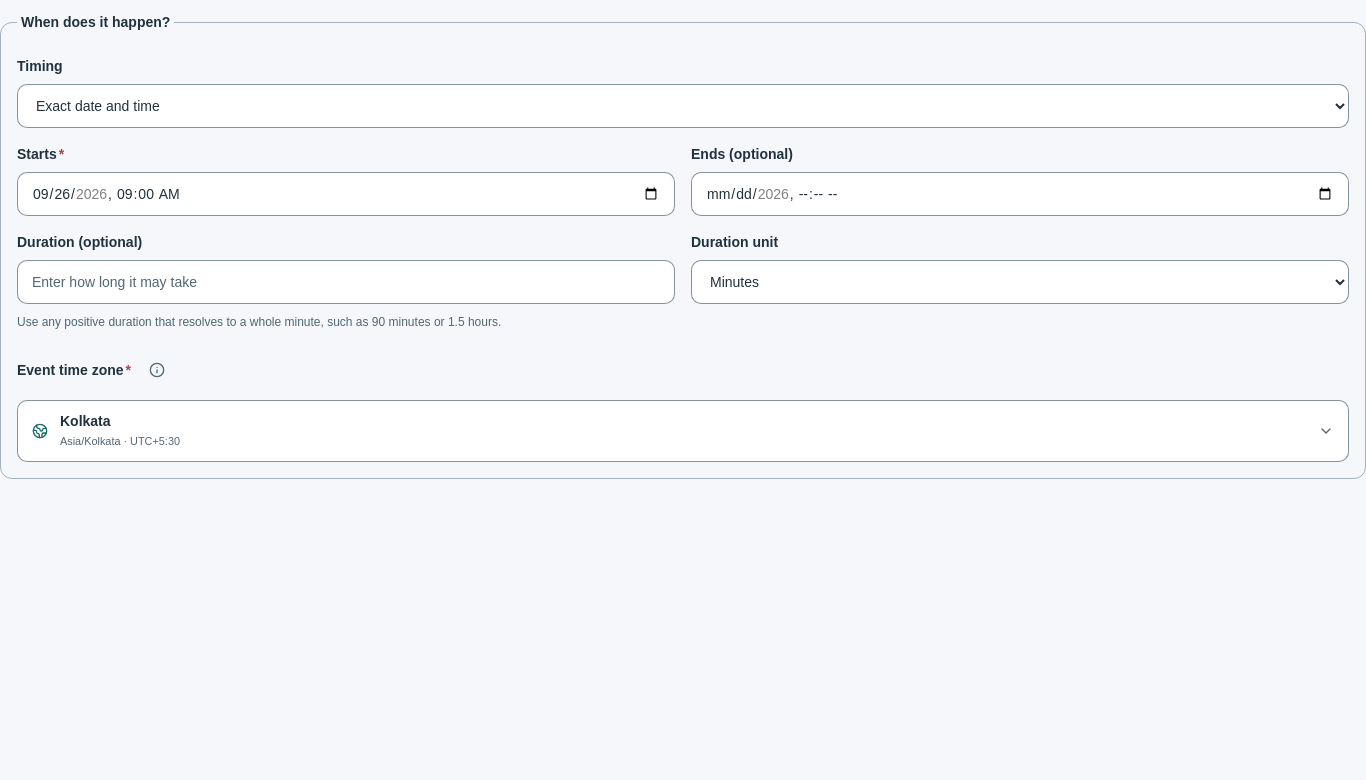
Test: relative event timing › shows an optional full schedule below Position and Event and enables end after start
Select "Before or after another event" in the dropdown labelled "Timing": (683, 106) x1=17 y1=84 x2=1349 y2=128
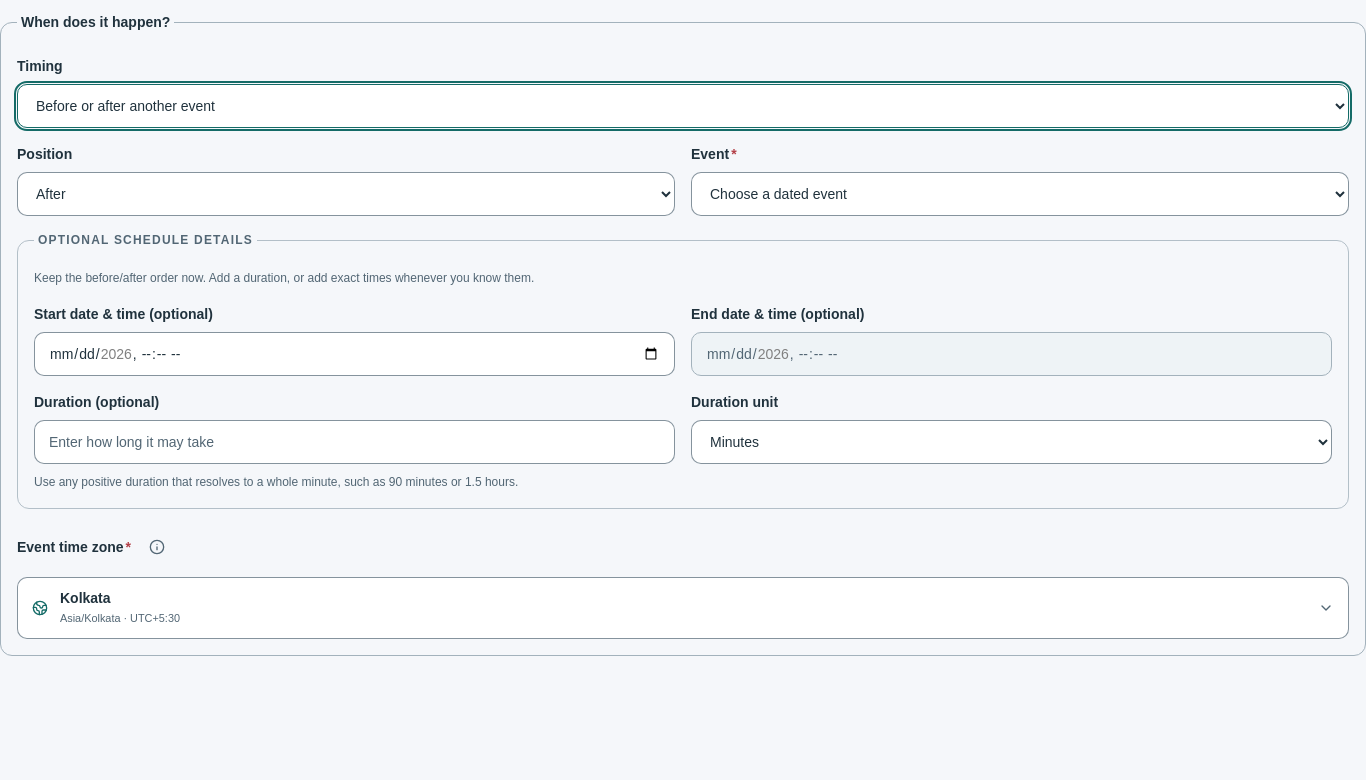
expect the dropdown labelled "Position" is shown: met, box x1=17 y1=172 x2=675 y2=216
expect the dropdown labelled "Event" is shown: met, box x1=691 y1=172 x2=1349 y2=216
expect the text "Optional schedule details" is shown: met, box x1=34 y1=232 x2=257 y2=248
In the field labelled "Start date & time (optional)": (354, 354) x1=34 y1=332 x2=675 y2=376, type "2026-09-27T10:00"
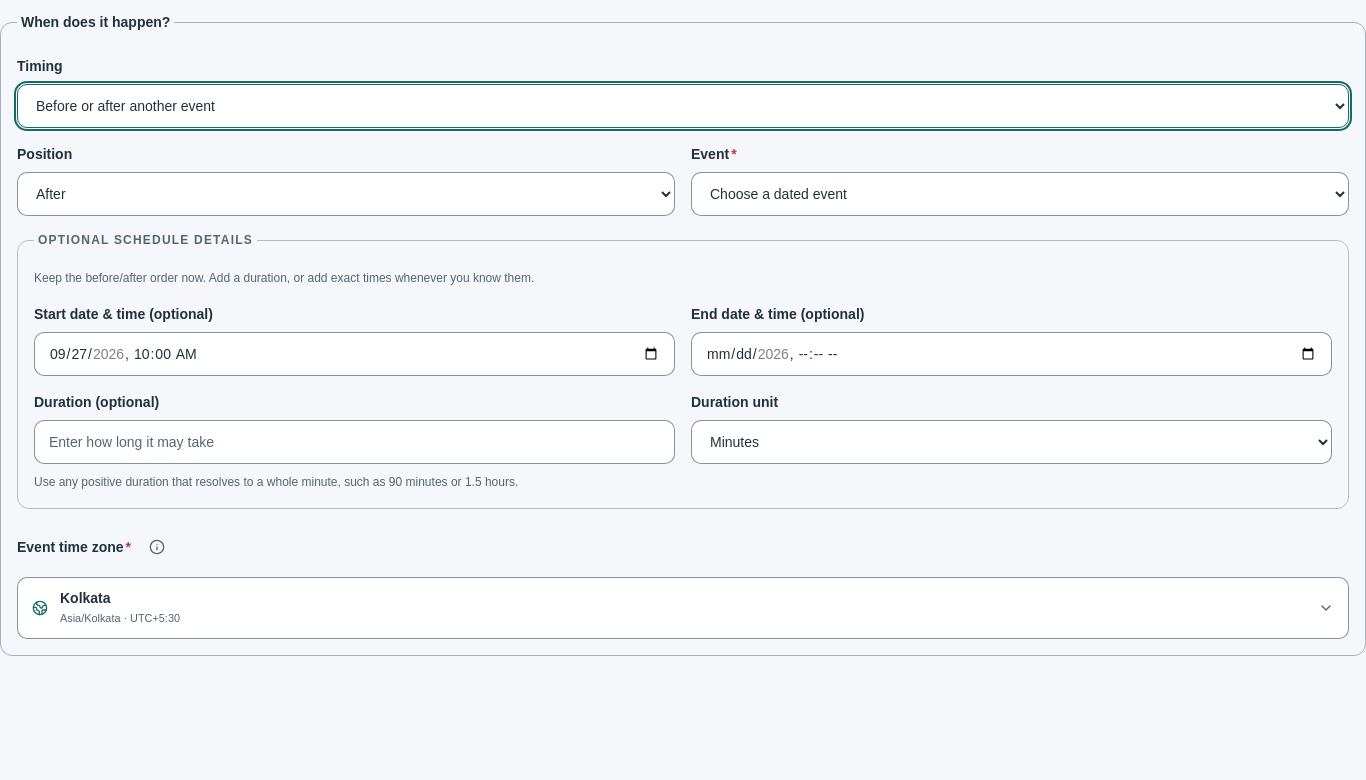
expect the field labelled "End date & time (optional)" is enabled: met, box x1=691 y1=332 x2=1332 y2=376
